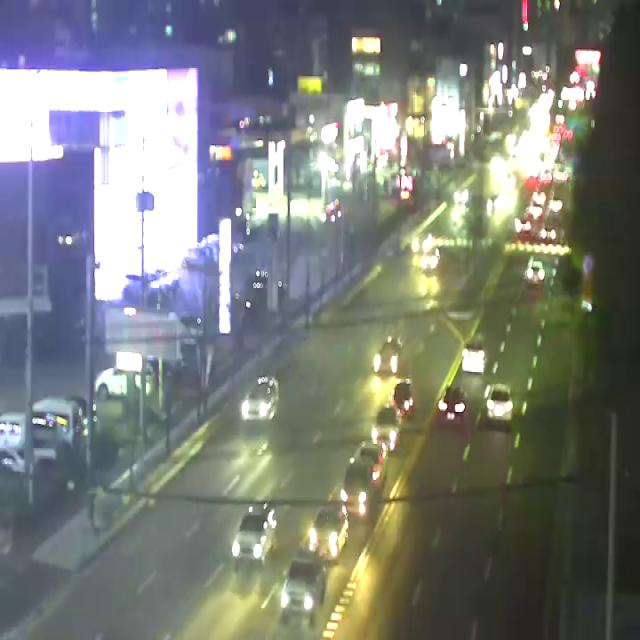Car: (32, 396, 82, 451), (0, 412, 57, 460), (233, 503, 277, 565), (282, 552, 324, 614), (309, 502, 349, 564), (94, 362, 156, 402), (344, 456, 373, 518), (353, 440, 388, 490), (241, 377, 280, 420), (373, 408, 402, 452), (0, 446, 39, 477), (439, 388, 465, 429), (374, 337, 403, 373), (488, 384, 512, 421), (391, 382, 413, 417), (463, 342, 484, 372), (527, 260, 545, 284)
